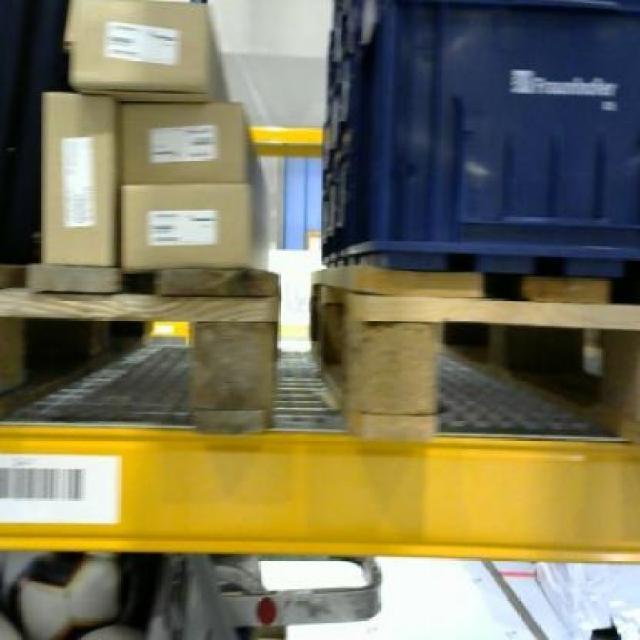box: (68, 0, 216, 98), (117, 184, 260, 270), (43, 92, 111, 266), (118, 102, 254, 185)
